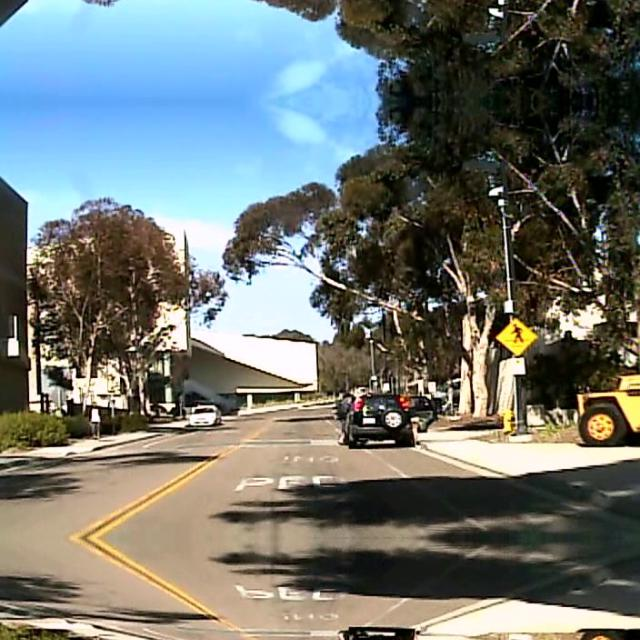pedestrianCrossing: (496, 316, 536, 354)
